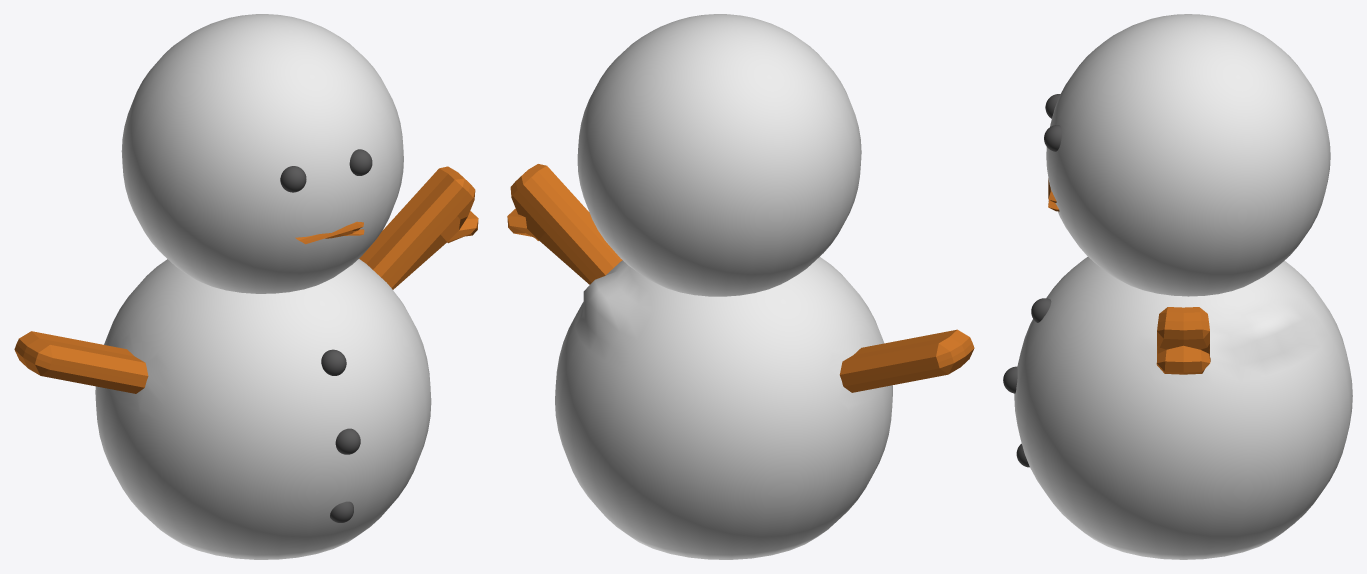
File: snowman.fbx
3 renders of one model, left to right at view 1: azimuth 30°, elevation 25°; view 2: azimuth 150°, elevation 25°; view 3: azimuth 270°, elevation 25°, orthographic.
Visible parts, largest first — view 1: 体, 球, 左腕, 右腕, 口, 左目; view 2: 体, 球, 左腕, 右腕; view 3: 体, 球, 左腕.
Part boxes in pixels (bbox=[...]): 体: bbox=[95, 259, 431, 559]; 球: bbox=[121, 14, 403, 293]; 左腕: bbox=[359, 166, 478, 289]; 右腕: bbox=[14, 331, 148, 393]; 口: bbox=[295, 221, 364, 244]; 左目: bbox=[280, 166, 306, 192]; 体: bbox=[555, 257, 892, 559]; 球: bbox=[577, 14, 861, 296]; 左腕: bbox=[507, 164, 622, 284]; 右腕: bbox=[839, 329, 974, 392]; 体: bbox=[1014, 257, 1352, 559]; 球: bbox=[1046, 14, 1330, 296]; 左腕: bbox=[1156, 307, 1210, 374].
Bounding box in the file's own units: 307 × 318 × 207.
